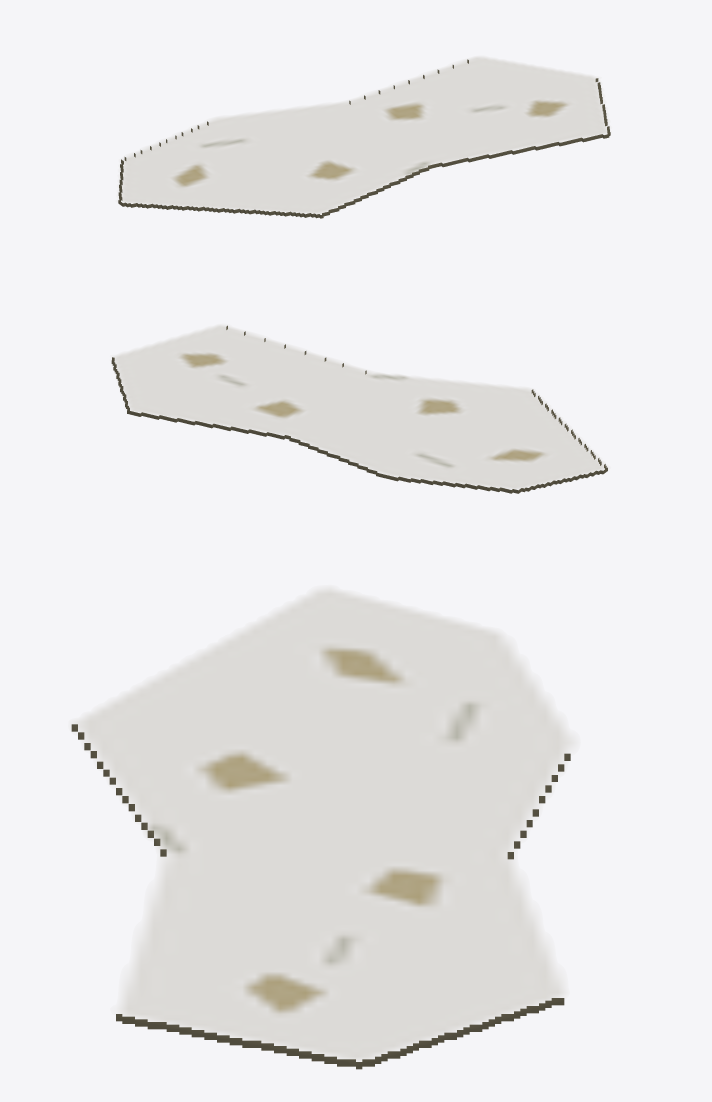
The model's file is LeafLitter.glb.
3 renders of one model, top to bottom at view 1: azimuth 30°, elevation 25°; view 2: azimuth 150°, elevation 25°; view 3: azimuth 270°, elevation 25°, orthographic. The views are drawn at different scales.
Parts seen in each view (by area): view 1: Visual; view 2: Visual; view 3: Visual.
Part boxes in pixels (x1,y1,x2,y2): Visual: [118, 57, 610, 218]; Visual: [111, 325, 607, 493]; Visual: [71, 590, 570, 1069].
Size of the model in its own units: 3 by 0.02 by 1.6.
3 materials, 2 textured.
